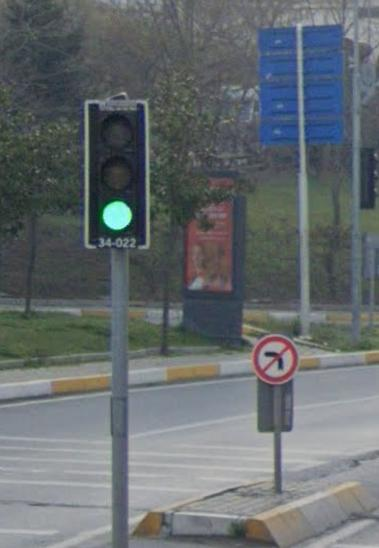greenlight: (87, 97, 153, 248)
